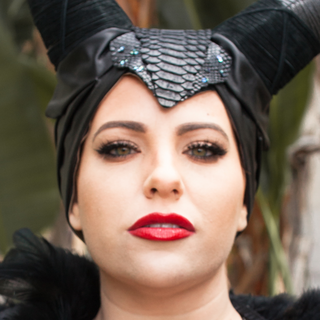eye: (176, 138, 225, 166), (95, 139, 142, 163)
